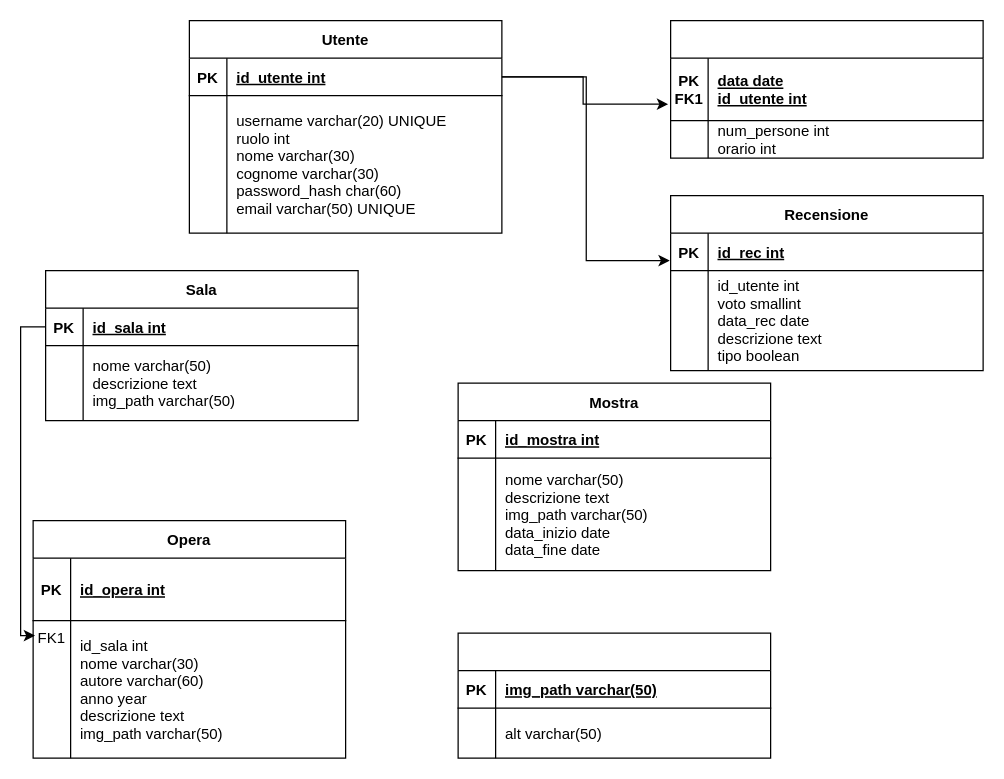
Image size: 1004x779. Some labels were removed from this diagram. Here are the shapes that lost their labels. From the top down, the box of each, then its label:
(669, 19, 983, 158): Prenotazione
(457, 632, 771, 758): Immagine
